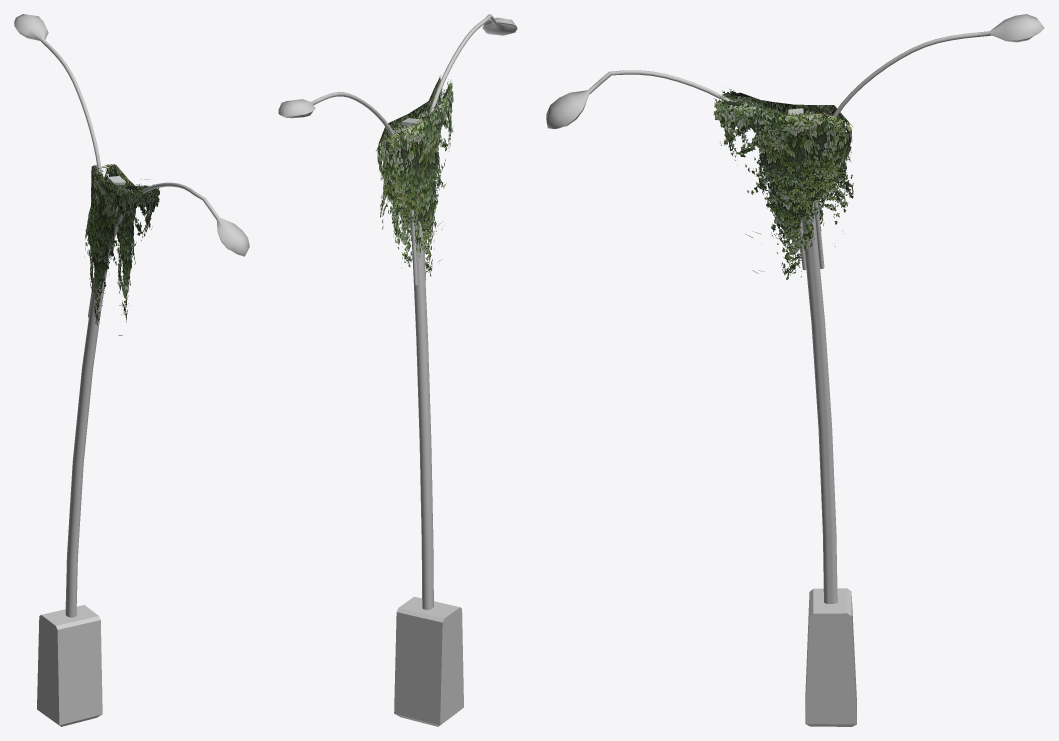
Rendered from CIV_Streetlight_00.fbx.
3 renders of one model, left to right at view 1: azimuth 30°, elevation 25°; view 2: azimuth 150°, elevation 25°; view 3: azimuth 270°, elevation 25°, orthographic. The views are drawn at different scales.
Parts seen in each view (by area): view 1: CIV_Streetlight_00; view 2: CIV_Streetlight_00; view 3: CIV_Streetlight_00.
Boxes of the visible parts, box(x1,y1,x2,y2) form: CIV_Streetlight_00: box(14, 14, 249, 726); CIV_Streetlight_00: box(278, 14, 517, 726); CIV_Streetlight_00: box(546, 14, 1044, 726).
Bounding box in the file's own units: 97.04 × 700 × 437.
